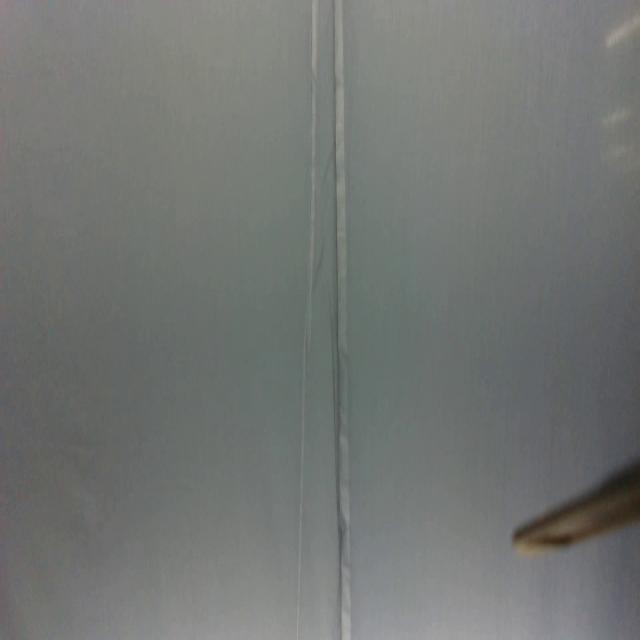crease: (293, 3, 320, 640), (332, 1, 354, 639)
